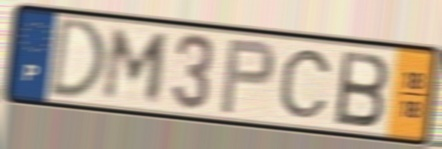3: (170, 30, 218, 114)
B: (333, 48, 392, 130)
C: (277, 47, 334, 121)
D: (46, 15, 109, 101)
M: (99, 25, 173, 104)
P: (217, 37, 278, 117)
